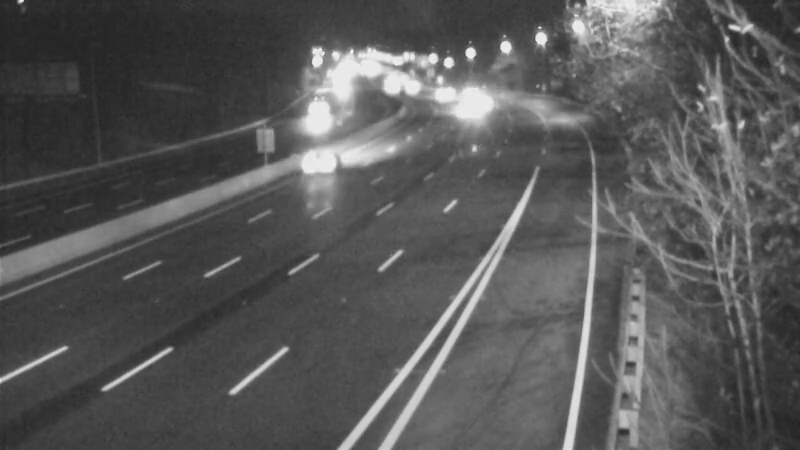vehicle: (282, 120, 362, 200), (379, 59, 429, 109), (367, 62, 417, 112), (416, 73, 466, 123), (445, 72, 495, 122), (455, 79, 505, 129), (433, 82, 483, 132), (282, 98, 332, 148)
